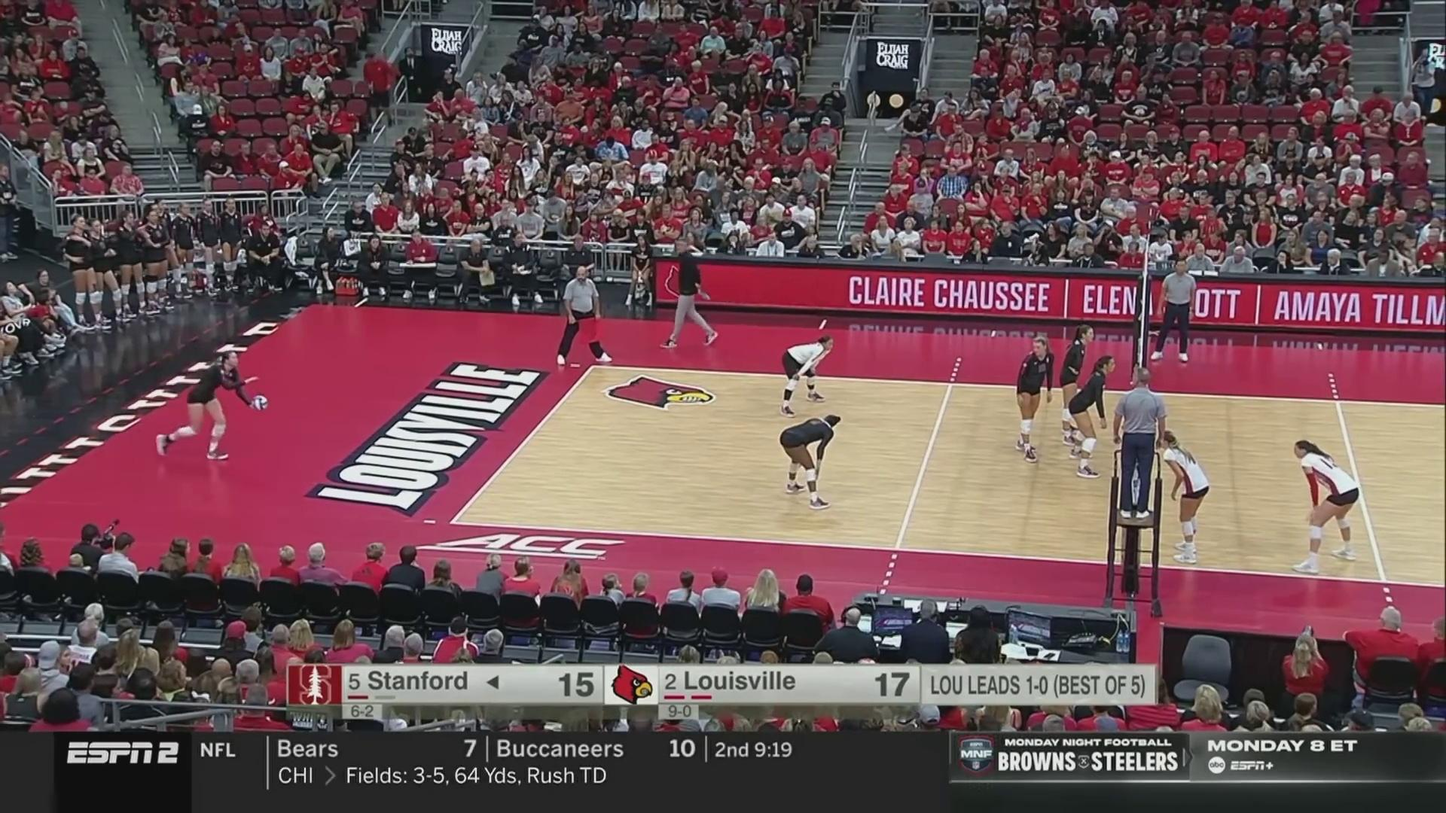player: (154, 350, 269, 460), (1292, 439, 1360, 572), (1160, 431, 1213, 564), (1070, 357, 1116, 482), (1012, 336, 1056, 463), (781, 415, 842, 506), (1058, 324, 1097, 449), (781, 337, 836, 412)
refree: (1115, 368, 1166, 515), (560, 264, 610, 367), (1152, 263, 1195, 358)
